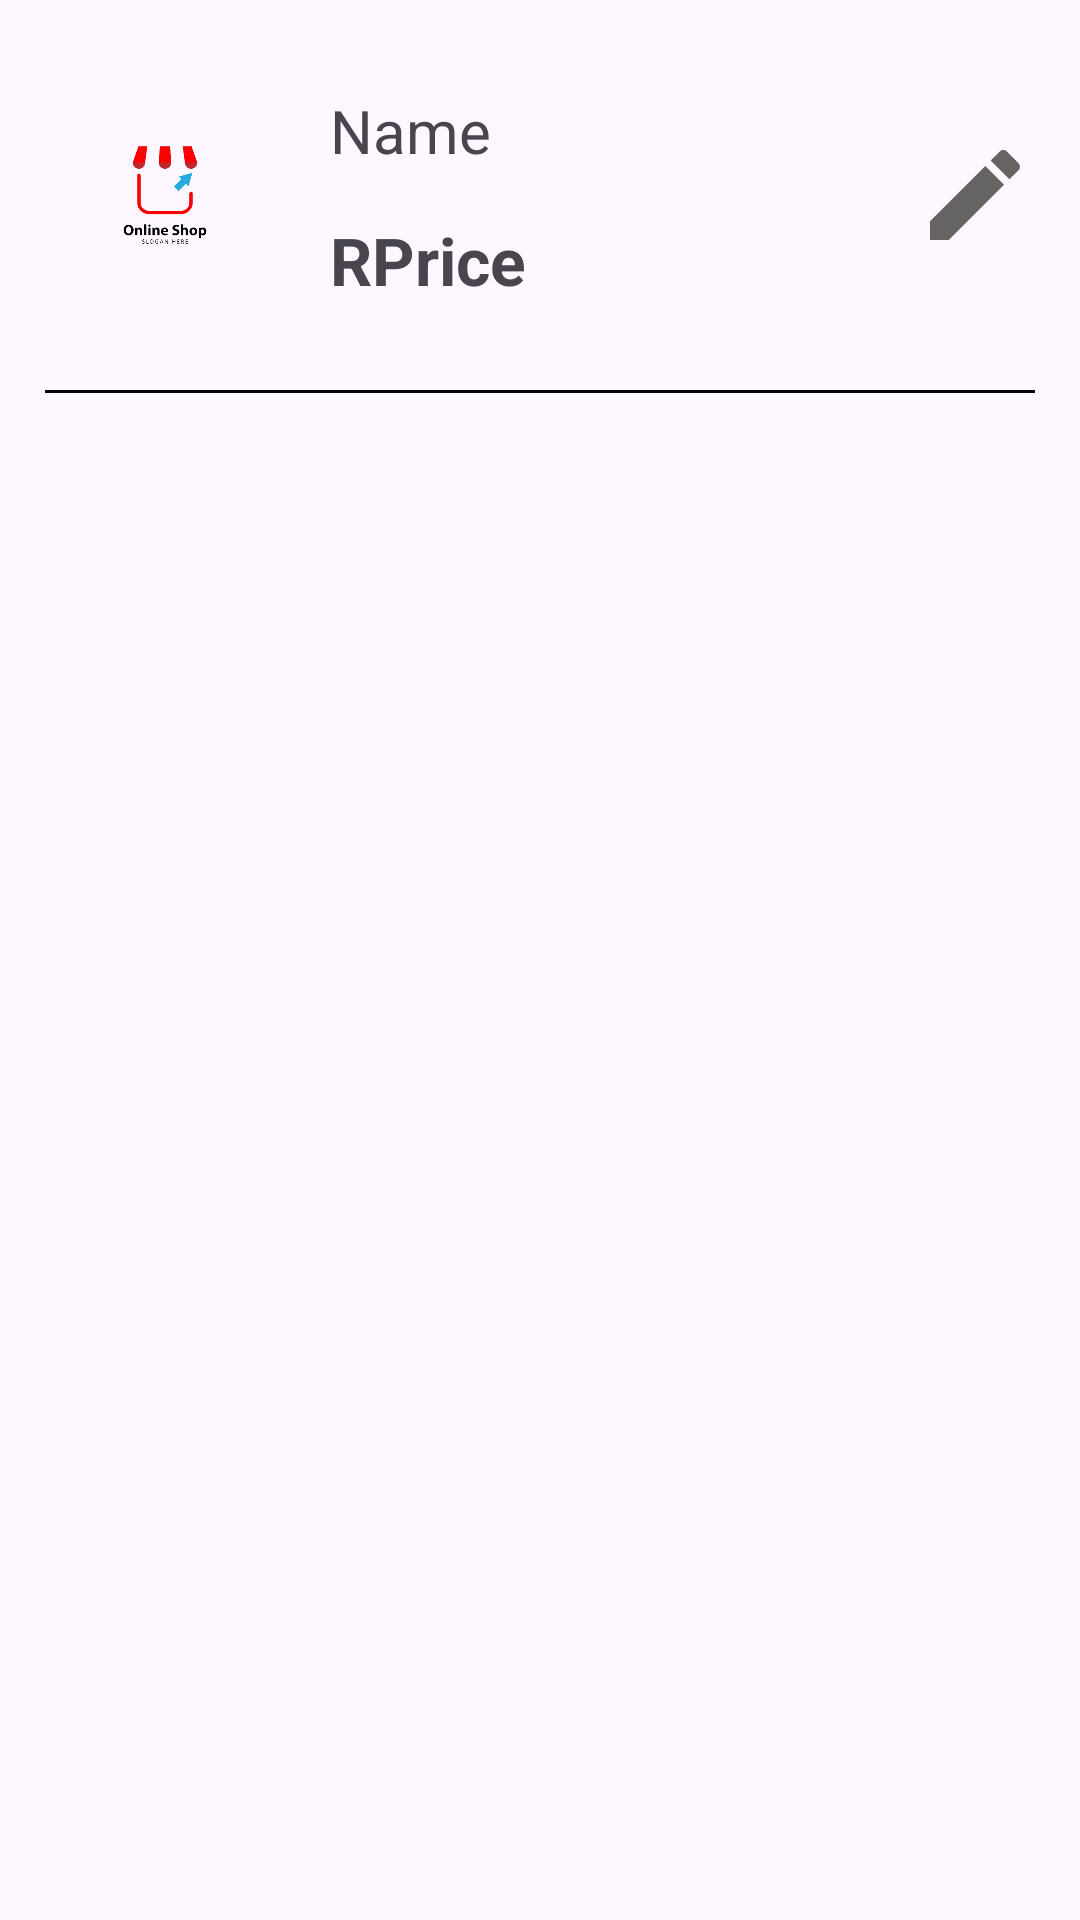

Named icons in this screenshot (1080x1920) and their centers, [x,y]:
mode edit: [975,195]
